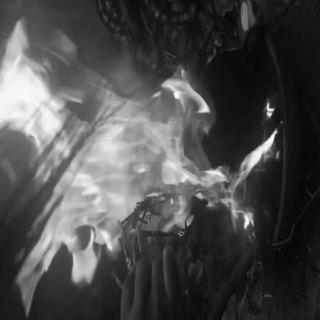Fire: (1, 13, 281, 299)
